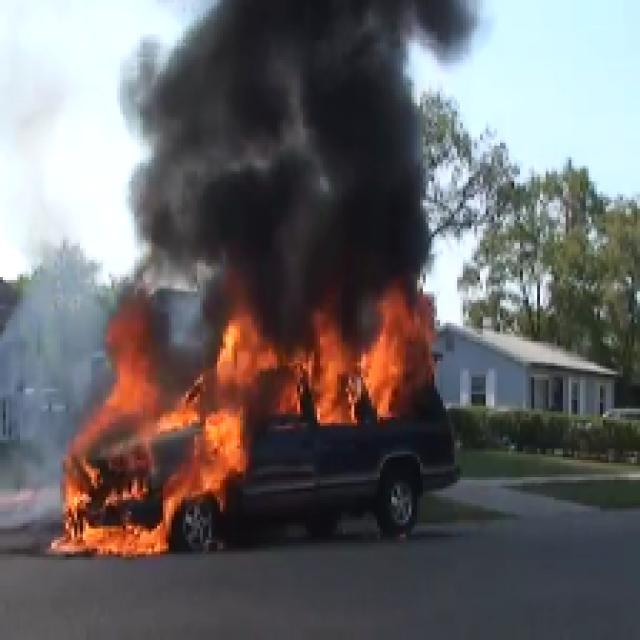fire: (99, 323, 426, 540)
smoke: (190, 10, 408, 298)
